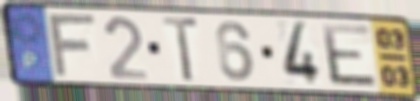2: (101, 14, 153, 82)
4: (280, 19, 323, 89)
6: (213, 20, 258, 84)
E: (318, 22, 381, 90)
F: (46, 13, 100, 80)
T: (160, 15, 202, 84)
